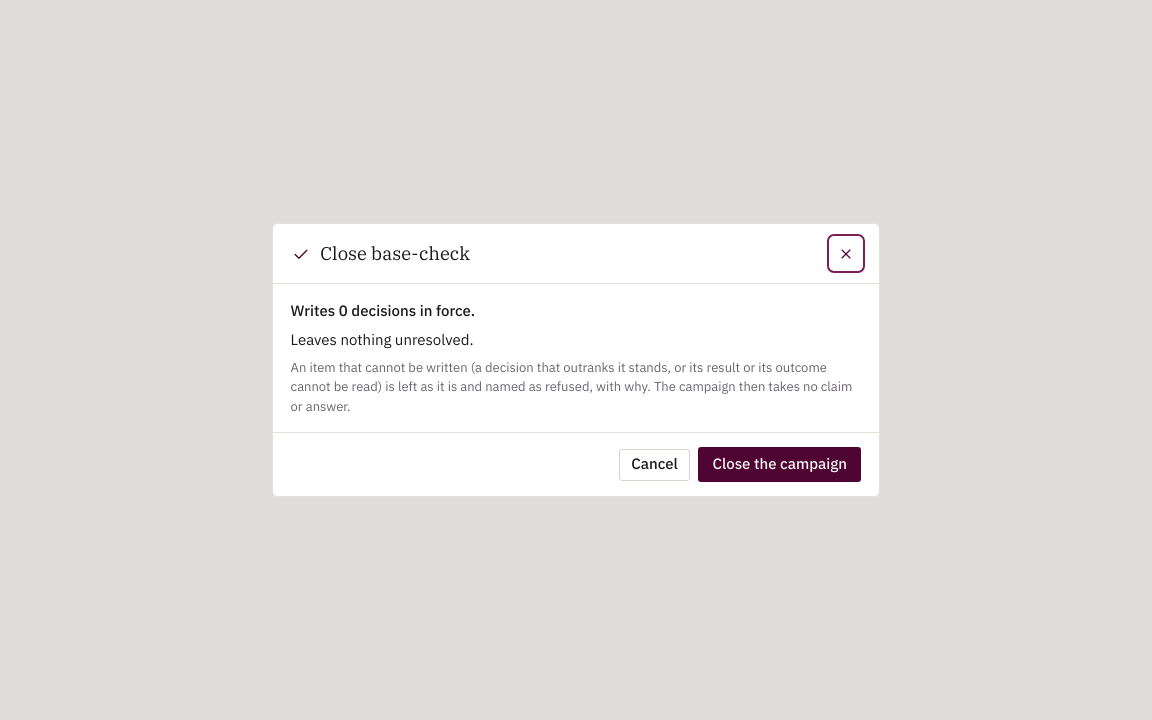
it: the close dialog › says why when the close is refused
Click the button "Close the campaign".
click(780, 465)  # box [698,447,861,482]
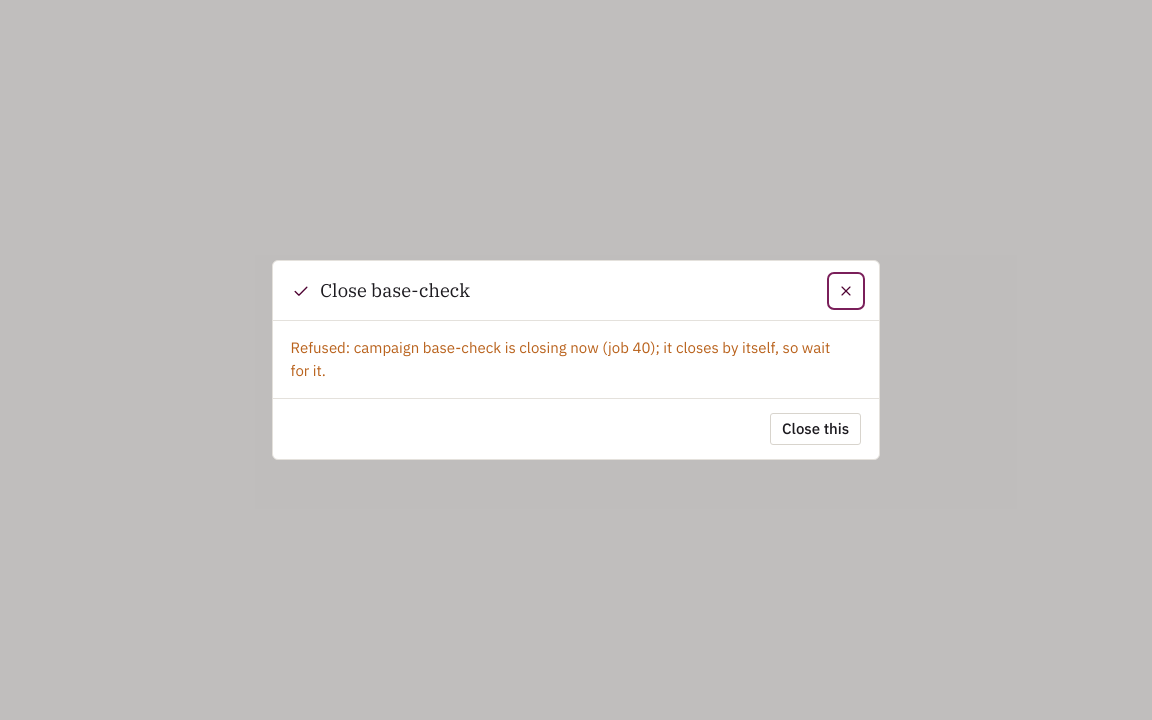
Check: the text "Refused: campaign base-check is closing now (job 40); it closes by itself, so wait for it." is shown, box [291,338,830,380]
